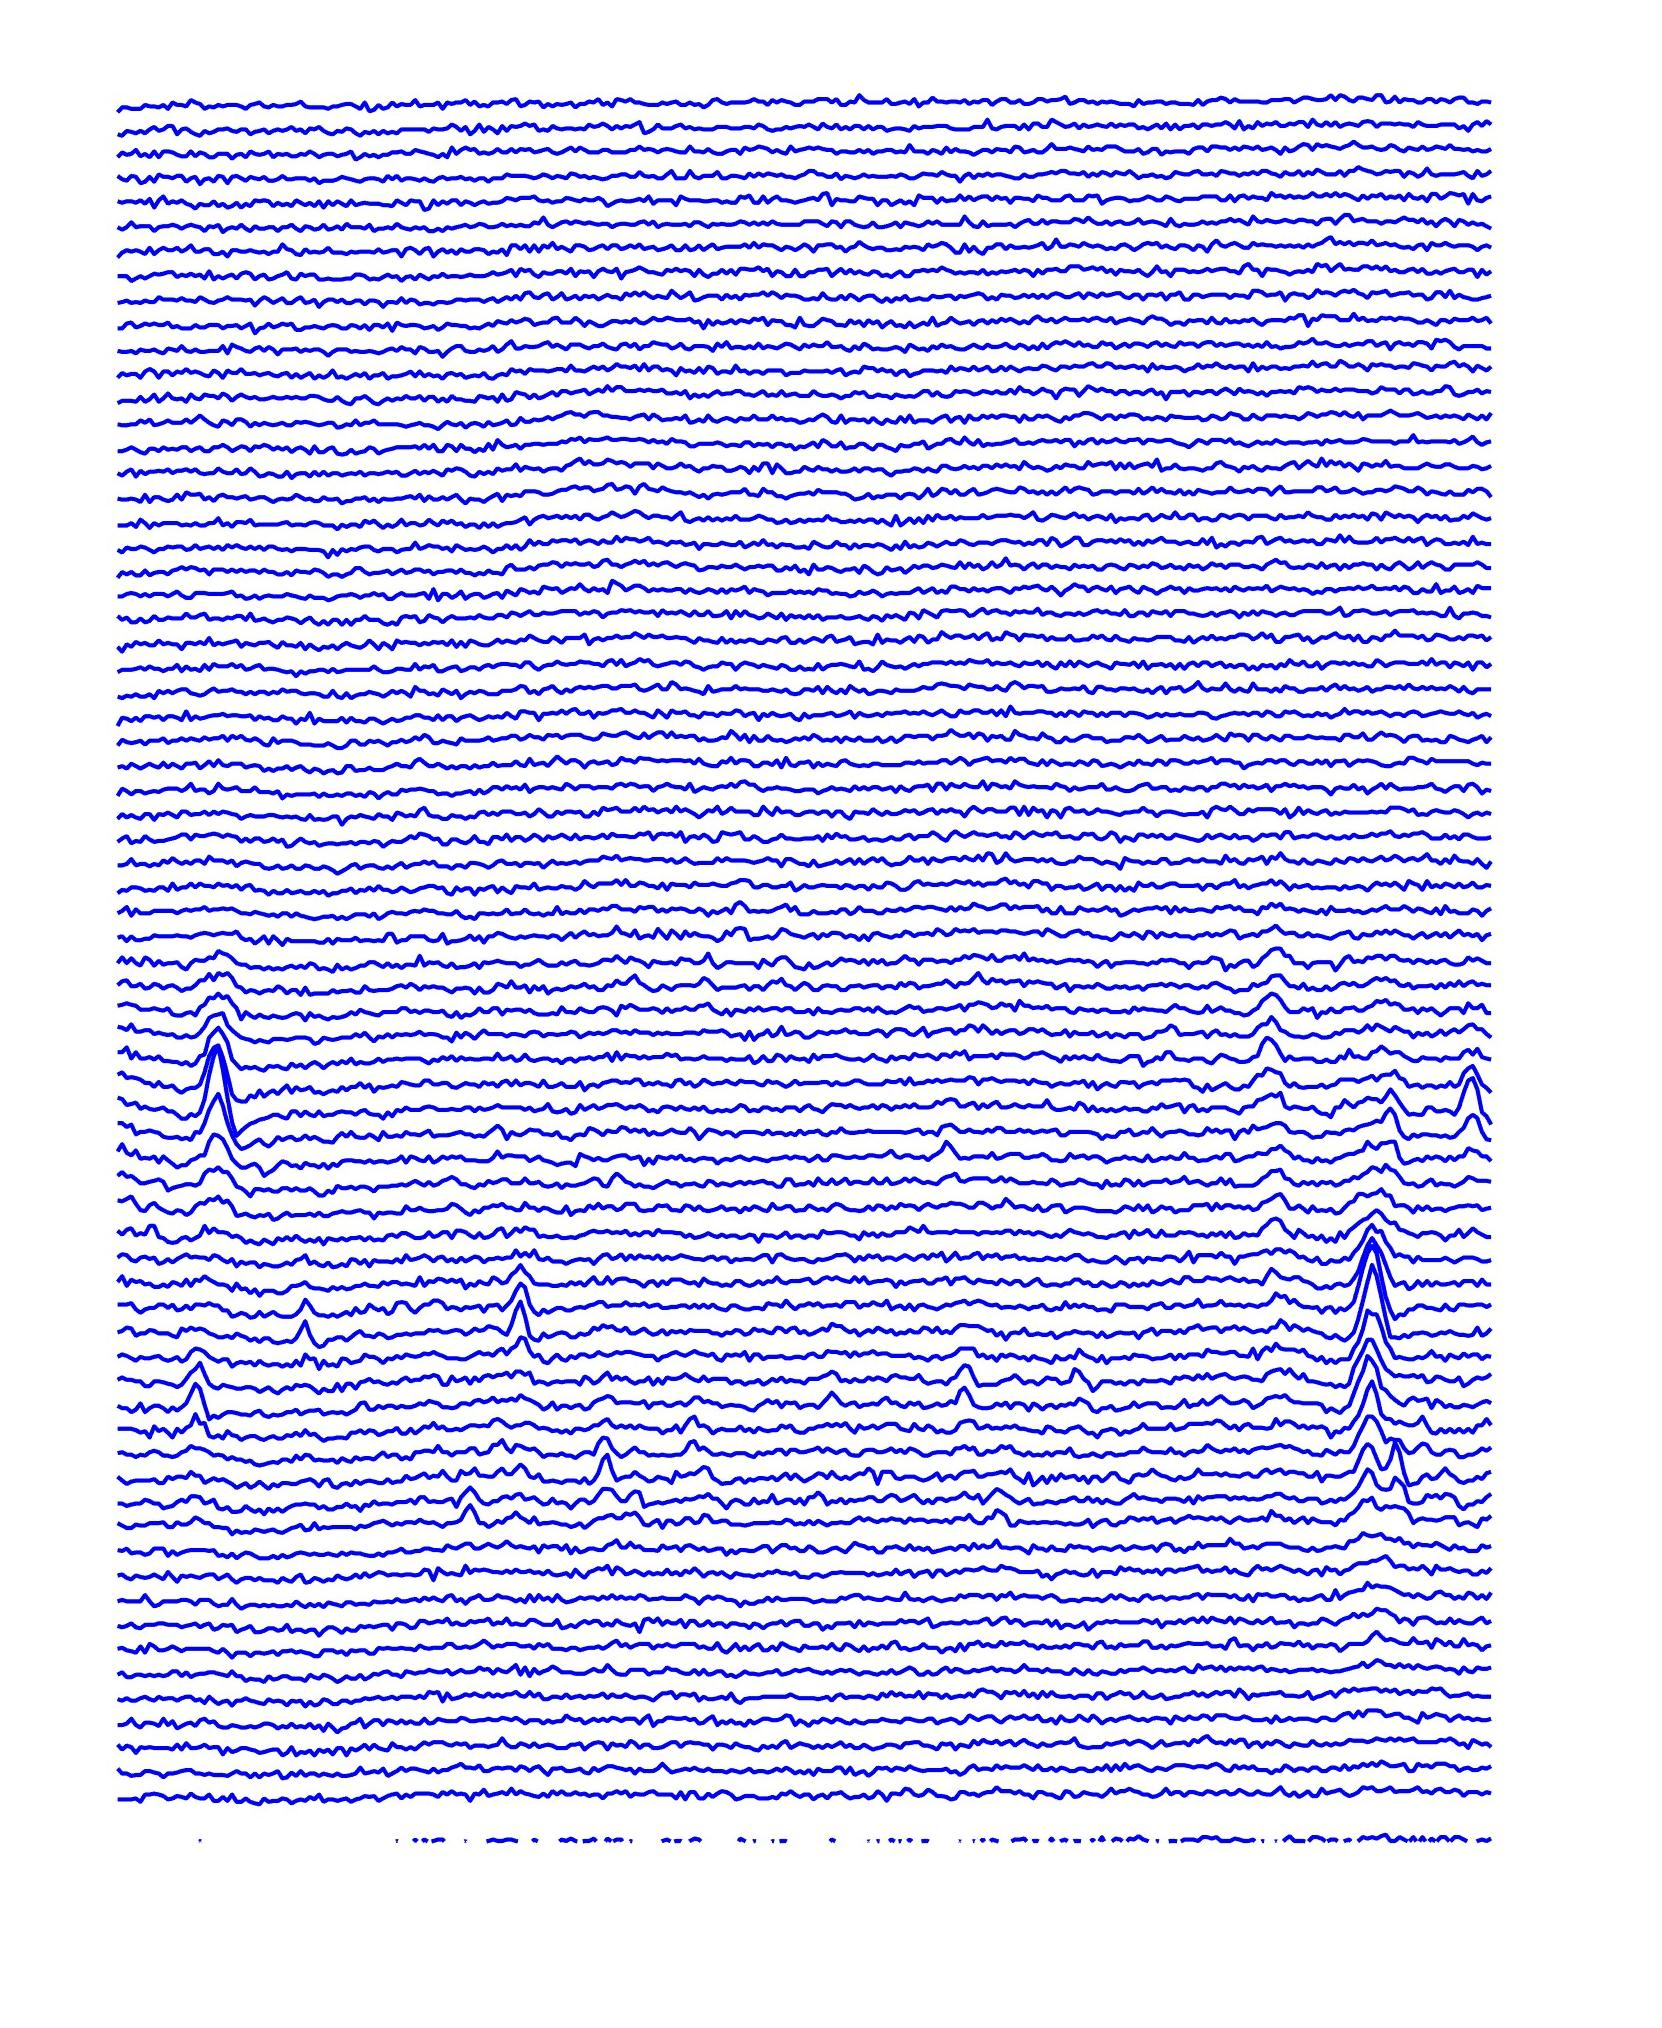defect: (1325, 1194, 1425, 1511), (184, 992, 261, 1218), (1233, 930, 1297, 1120), (567, 1422, 674, 1528), (478, 1233, 546, 1369), (155, 1344, 226, 1450), (1440, 1044, 1489, 1171), (268, 1282, 342, 1364), (441, 1455, 500, 1548), (935, 1344, 993, 1433)
